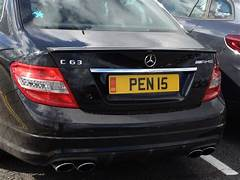number_plate: (110, 75, 181, 92)
